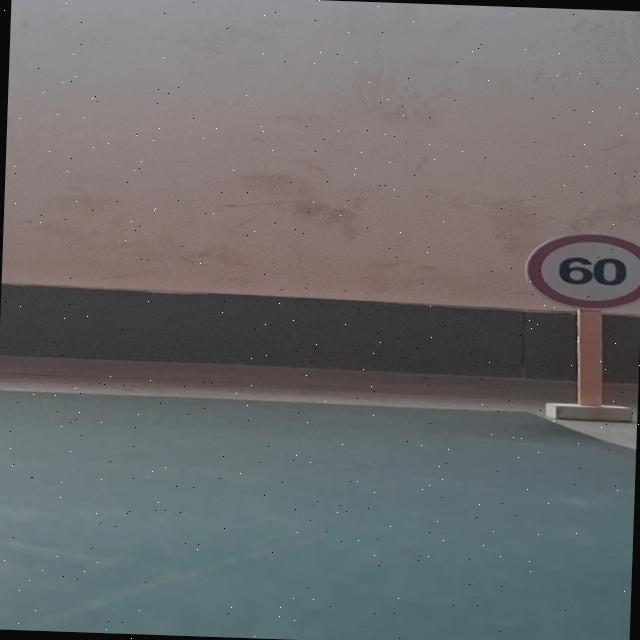Speed60: (519, 227, 640, 314)
